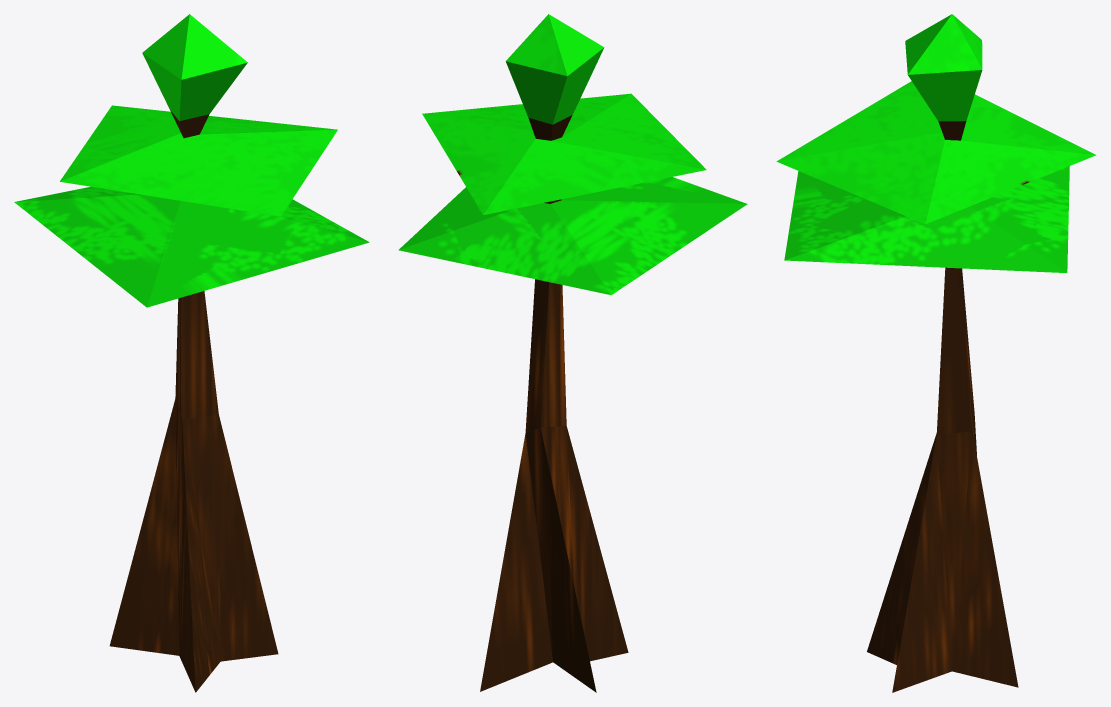
File: Douglar_fir_14_final.fbx
3 views of the same model, side by side, from view 1: azimuth 30°, elevation 25°; view 2: azimuth 150°, elevation 25°; view 3: azimuth 270°, elevation 25° (orthographic). The views are drawn at different scales.
Visible parts, largest first — view 1: Cube; view 2: Cube; view 3: Cube.
Boxes of the visible parts, box(x1,y1,x2,y2) form: Cube: box(14, 14, 369, 692); Cube: box(398, 14, 747, 692); Cube: box(776, 14, 1096, 692).
Bounding box in the file's own units: 2386 × 2443 × 5397.
1 material, 1 textured.
